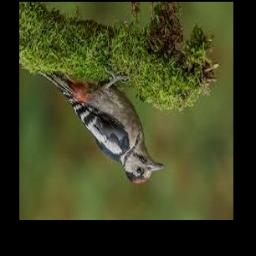Woodpecker: (39, 70, 164, 184)
